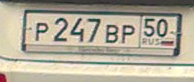character: (53, 16, 69, 43), (69, 16, 85, 43), (86, 16, 102, 43), (104, 23, 120, 45), (33, 22, 50, 42), (121, 23, 135, 45), (143, 18, 156, 37), (157, 17, 168, 38)
